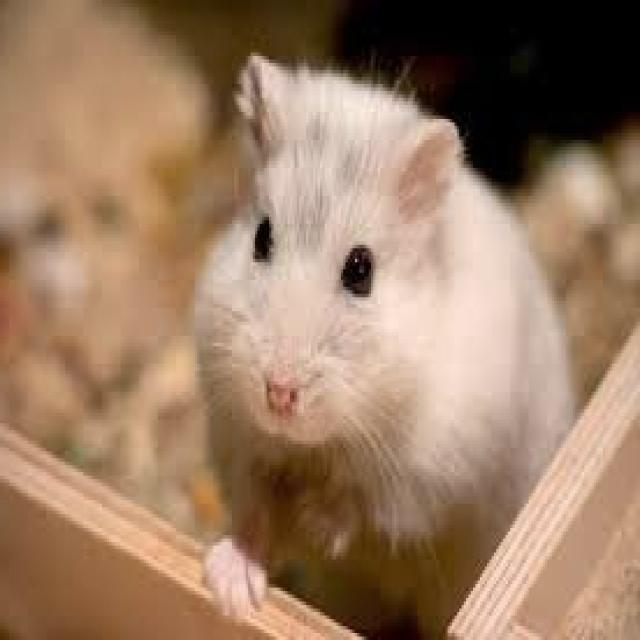hamster: (197, 56, 575, 637)
